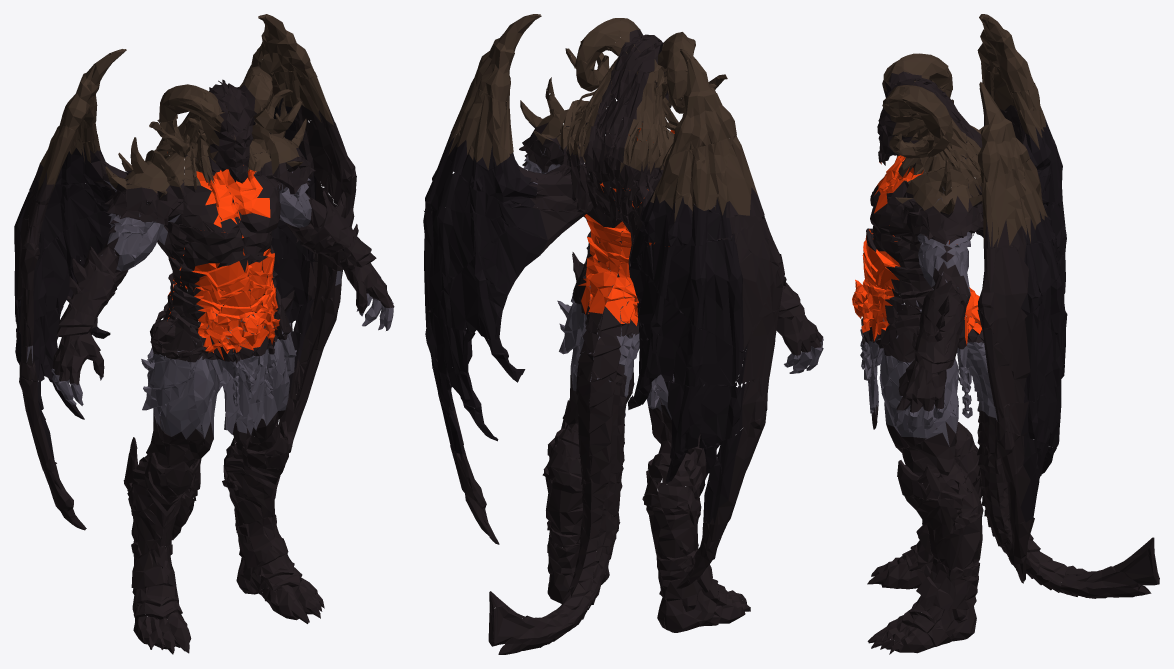
Rendered from demon_lord_torso.obj.
3 views of the same model, side by side, from view 1: azimuth 30°, elevation 25°; view 2: azimuth 150°, elevation 25°; view 3: azimuth 270°, elevation 25° (orthographic). The views are drawn at different scales.
Parts seen in each view (by area): view 1: DemonKing; view 2: DemonKing; view 3: DemonKing.
Boxes of the visible parts, bbox=[...] form: DemonKing: bbox=[14, 14, 394, 654]; DemonKing: bbox=[423, 14, 823, 654]; DemonKing: bbox=[852, 14, 1159, 654].
Bounding box in the file's own units: 1.61 × 2.6 × 1.28.
